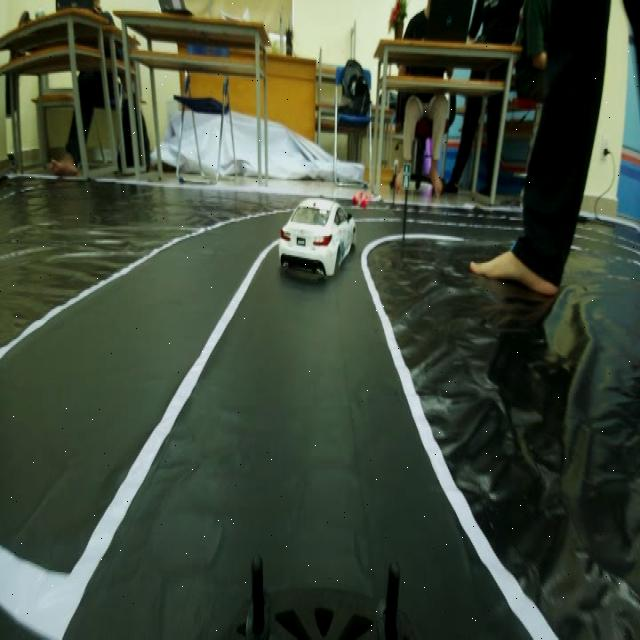car: (269, 180, 356, 298)
